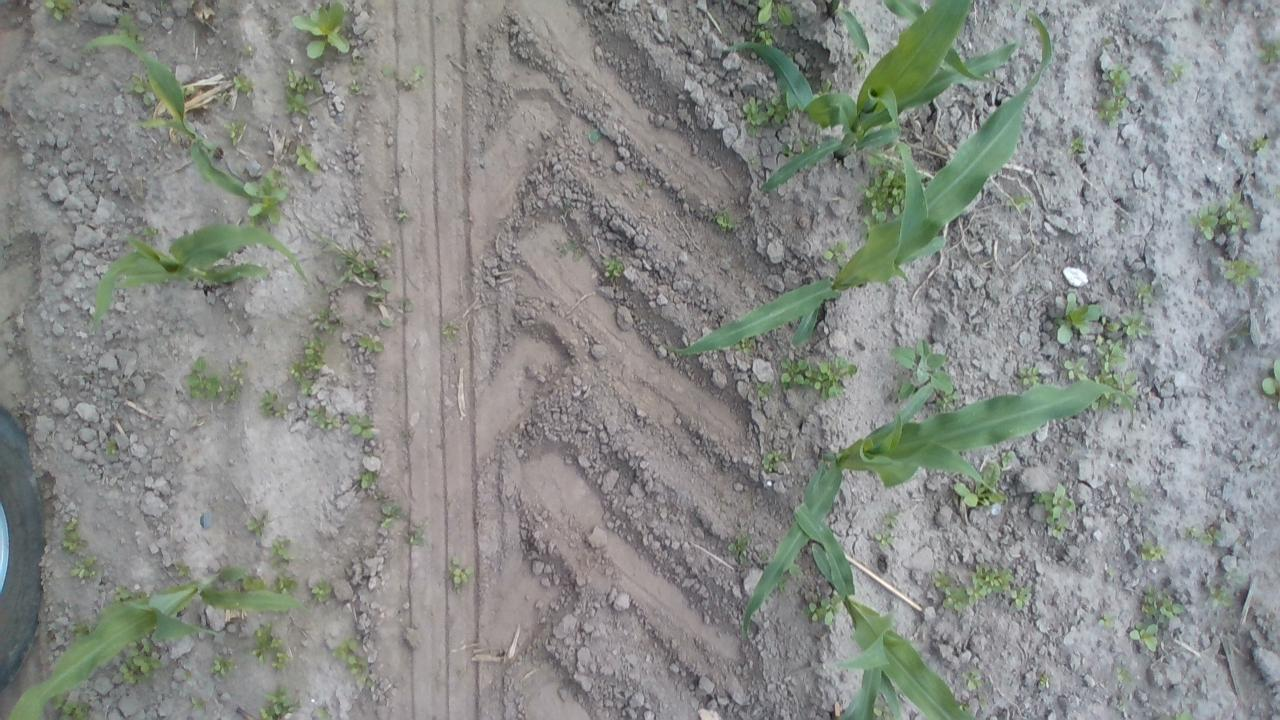Maize: (660, 0, 1052, 354), (742, 380, 1134, 644), (7, 563, 318, 720), (723, 36, 1021, 195), (790, 501, 978, 720), (79, 35, 257, 200), (90, 222, 314, 333), (817, 0, 1001, 86)
Weeds: (858, 142, 928, 240), (889, 336, 953, 393), (779, 354, 858, 400), (292, 1, 349, 60), (1191, 190, 1251, 240), (243, 169, 290, 229), (1054, 291, 1102, 346), (954, 462, 1008, 508), (1032, 482, 1076, 538), (118, 636, 164, 687), (1095, 65, 1131, 126), (289, 337, 326, 395), (742, 94, 792, 136), (332, 636, 373, 687), (250, 620, 290, 670), (328, 252, 377, 292), (966, 564, 1014, 604), (1090, 372, 1138, 410), (283, 68, 321, 114), (1140, 586, 1184, 623), (187, 355, 223, 400), (259, 685, 300, 720), (933, 570, 968, 610), (802, 594, 843, 626), (1094, 334, 1126, 373), (1100, 312, 1150, 336), (59, 516, 90, 554), (50, 690, 89, 720), (1220, 258, 1260, 286), (1260, 359, 1280, 409), (124, 74, 155, 106), (757, 0, 795, 26), (224, 362, 248, 402), (310, 308, 344, 336), (258, 389, 288, 418), (117, 13, 145, 44), (68, 555, 102, 580), (1130, 622, 1158, 652), (306, 406, 340, 430), (448, 556, 473, 586), (270, 538, 295, 568), (222, 115, 246, 146), (822, 241, 849, 268), (42, 0, 74, 22), (348, 413, 374, 440), (210, 654, 235, 681), (709, 209, 739, 231), (295, 143, 318, 171), (1016, 364, 1041, 389), (728, 535, 751, 562), (271, 573, 298, 596), (1140, 539, 1168, 561), (246, 510, 268, 538), (1004, 191, 1034, 211), (761, 449, 787, 472), (111, 586, 147, 602), (934, 389, 960, 411), (310, 576, 332, 602), (1257, 41, 1280, 65), (1132, 279, 1154, 304), (380, 503, 402, 528), (748, 25, 774, 46), (960, 668, 984, 690), (1064, 357, 1088, 379), (68, 620, 94, 640), (602, 255, 624, 278), (356, 334, 384, 352), (1247, 134, 1272, 154), (1066, 134, 1088, 156), (893, 382, 916, 403), (1209, 586, 1233, 606), (874, 528, 894, 552), (1168, 60, 1188, 84), (1011, 586, 1032, 608), (232, 74, 255, 93), (241, 573, 266, 590), (316, 234, 338, 252), (1201, 528, 1223, 546), (566, 236, 582, 260), (871, 704, 894, 720), (734, 336, 754, 354), (851, 51, 866, 74), (442, 321, 458, 342), (358, 471, 376, 489), (1156, 711, 1192, 720), (779, 142, 798, 159), (774, 574, 790, 594), (175, 560, 192, 578), (349, 54, 364, 74), (883, 510, 899, 528), (396, 203, 411, 222), (1098, 612, 1118, 626), (756, 381, 773, 397), (190, 696, 207, 712), (368, 289, 386, 304), (1128, 485, 1146, 500), (1226, 568, 1244, 583), (1116, 666, 1132, 682), (814, 80, 830, 96), (787, 563, 804, 578), (409, 529, 424, 546), (104, 438, 119, 454), (179, 80, 194, 96), (1183, 525, 1201, 538), (142, 226, 160, 239), (411, 66, 427, 80), (588, 128, 602, 144), (314, 706, 330, 720), (1001, 450, 1015, 466), (1228, 330, 1250, 340), (798, 137, 812, 152), (379, 244, 392, 258), (239, 44, 254, 56), (381, 279, 394, 292), (348, 82, 362, 94), (746, 154, 760, 166), (958, 701, 972, 712), (403, 297, 413, 312), (1099, 38, 1111, 50), (1202, 0, 1214, 12), (1040, 673, 1050, 687), (216, 92, 228, 102), (382, 66, 394, 76), (380, 318, 392, 328), (154, 1, 164, 9), (758, 552, 768, 560), (636, 179, 644, 189), (182, 673, 192, 681), (1275, 184, 1280, 198), (786, 51, 794, 58)
